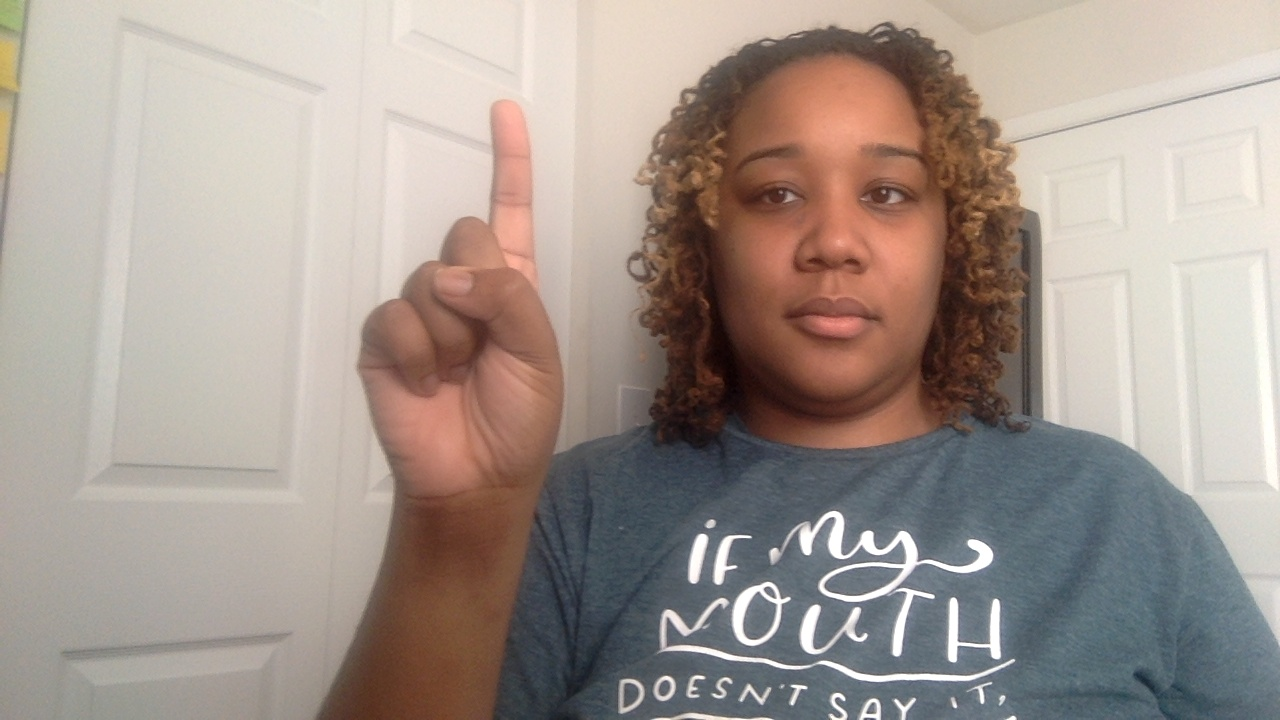up: (309, 90, 599, 720)
